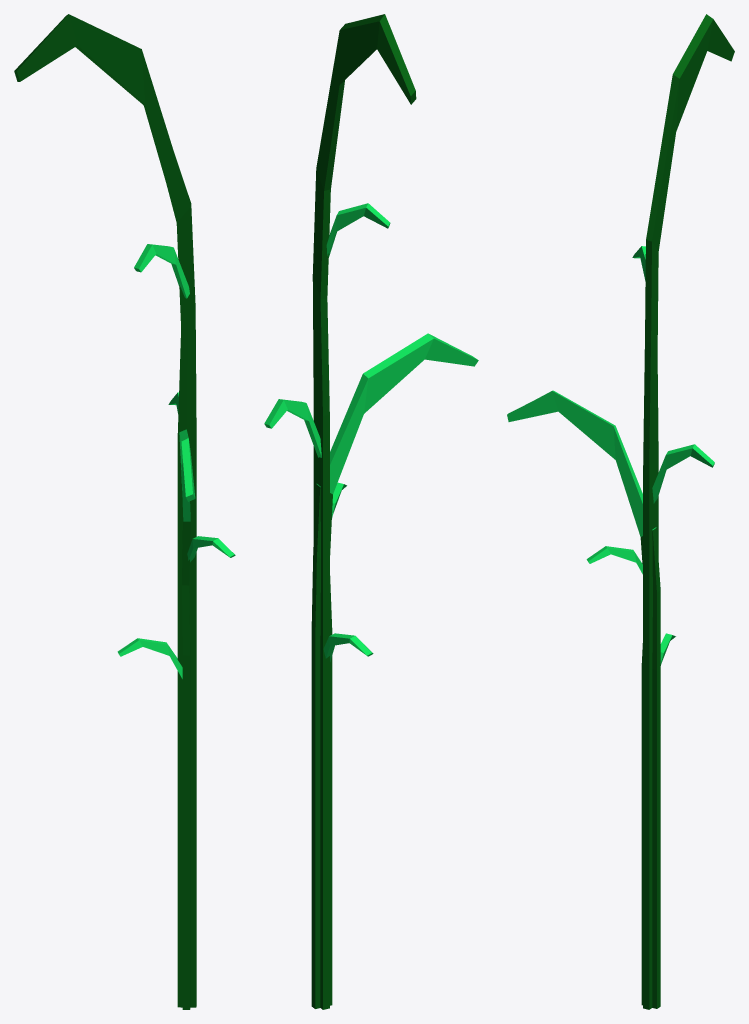
Rendered from stage_3.glb.
3 renders of one model, left to right at view 1: azimuth 30°, elevation 25°; view 2: azimuth 150°, elevation 25°; view 3: azimuth 270°, elevation 25°, orthographic. The views are drawn at different scales.
Visible parts, largest first — view 1: 3; view 2: 3; view 3: 3.
Part boxes in pixels (x1,y1,x2,y2): 3: [14, 14, 235, 1009]; 3: [264, 14, 478, 1009]; 3: [507, 14, 734, 1009].
Size of the model in its own units: 0.153 by 0.9485 by 0.2063.
